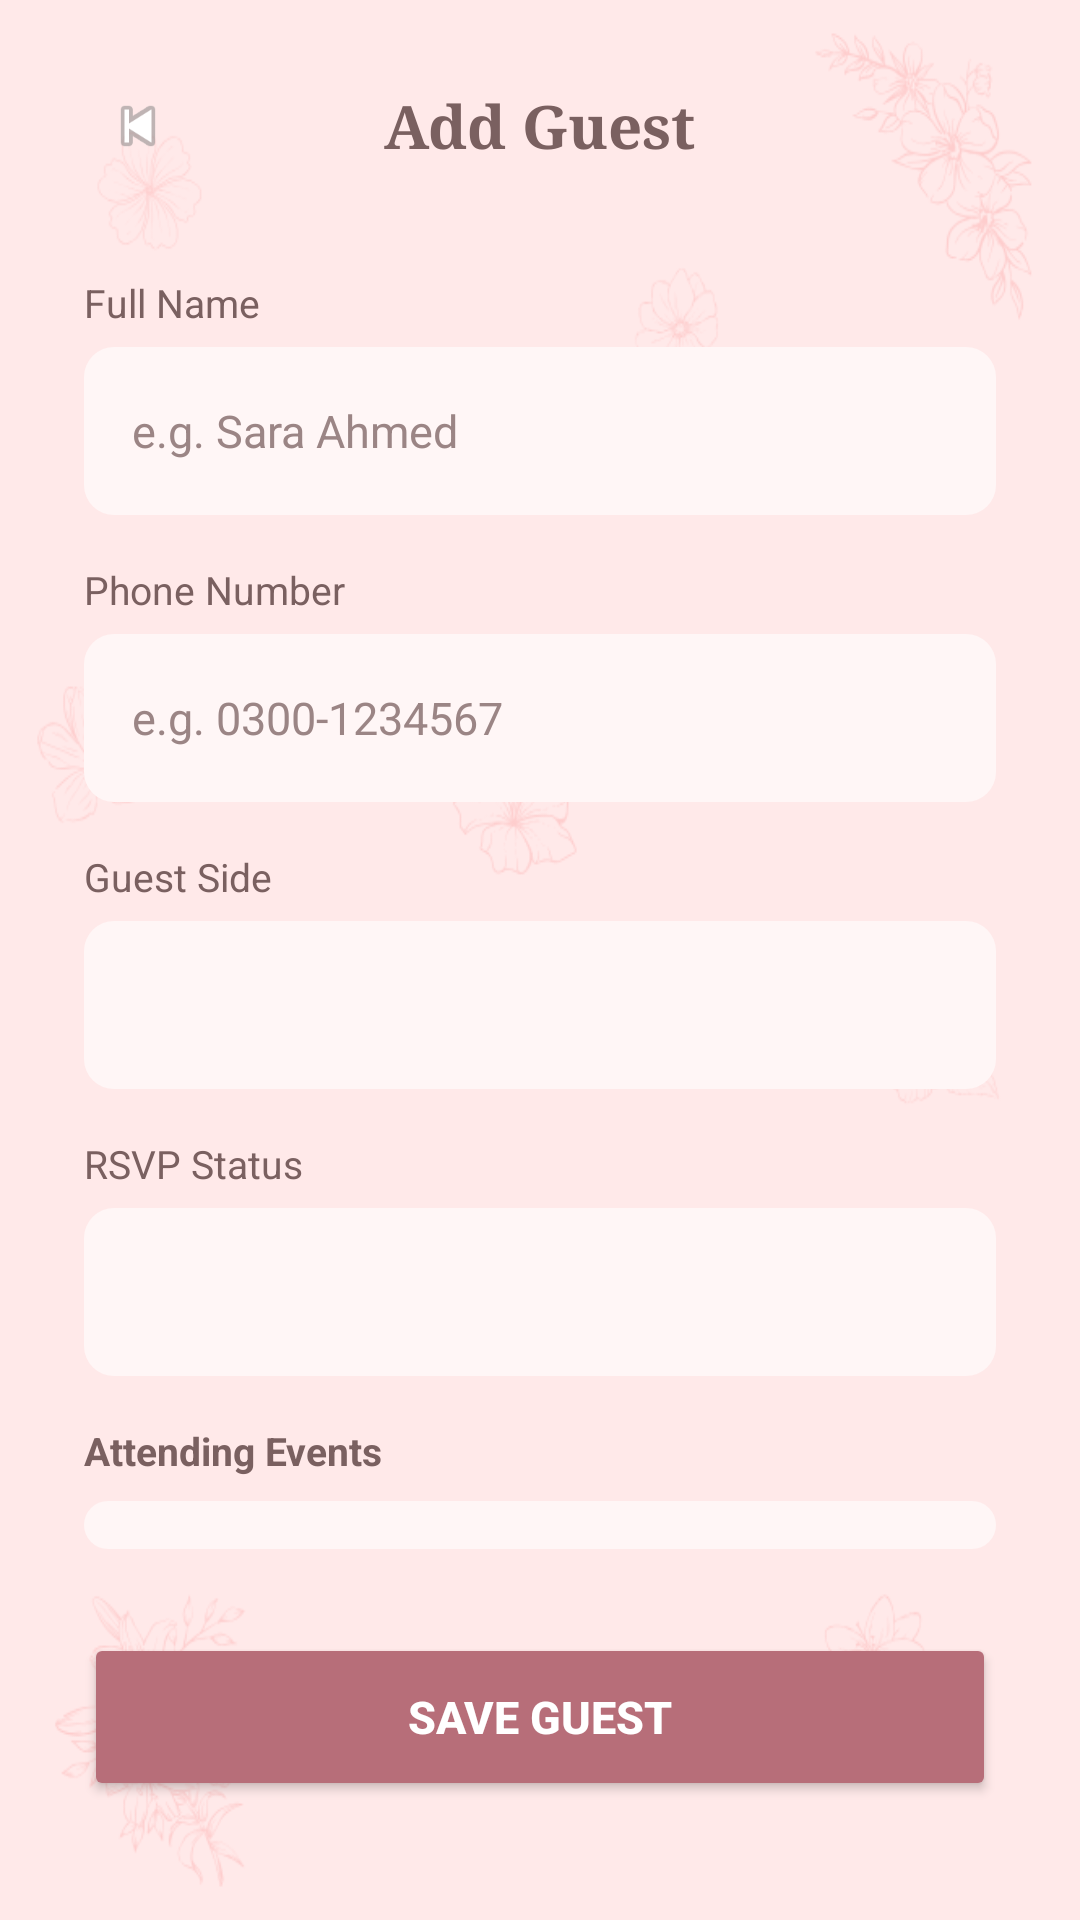

Point at icon controls on the screen. Image size 1080 x 1920, points as point (x, y).
Back: point (138, 126)
